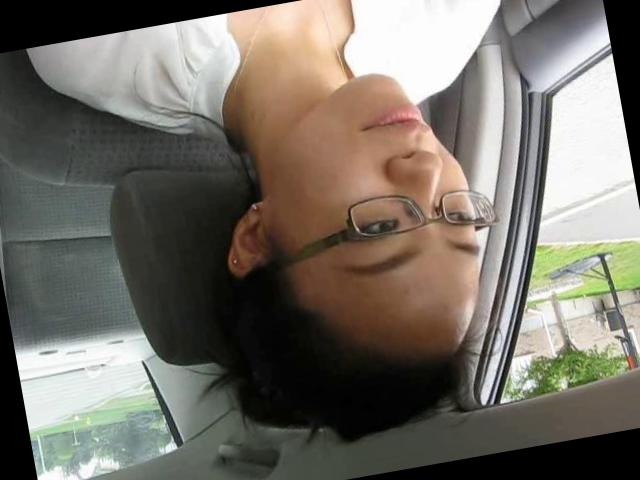eye_open: (345, 204, 413, 248), (438, 198, 477, 232)
face: (259, 57, 492, 314)
